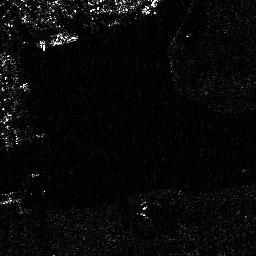ship: (35, 30, 78, 47)
